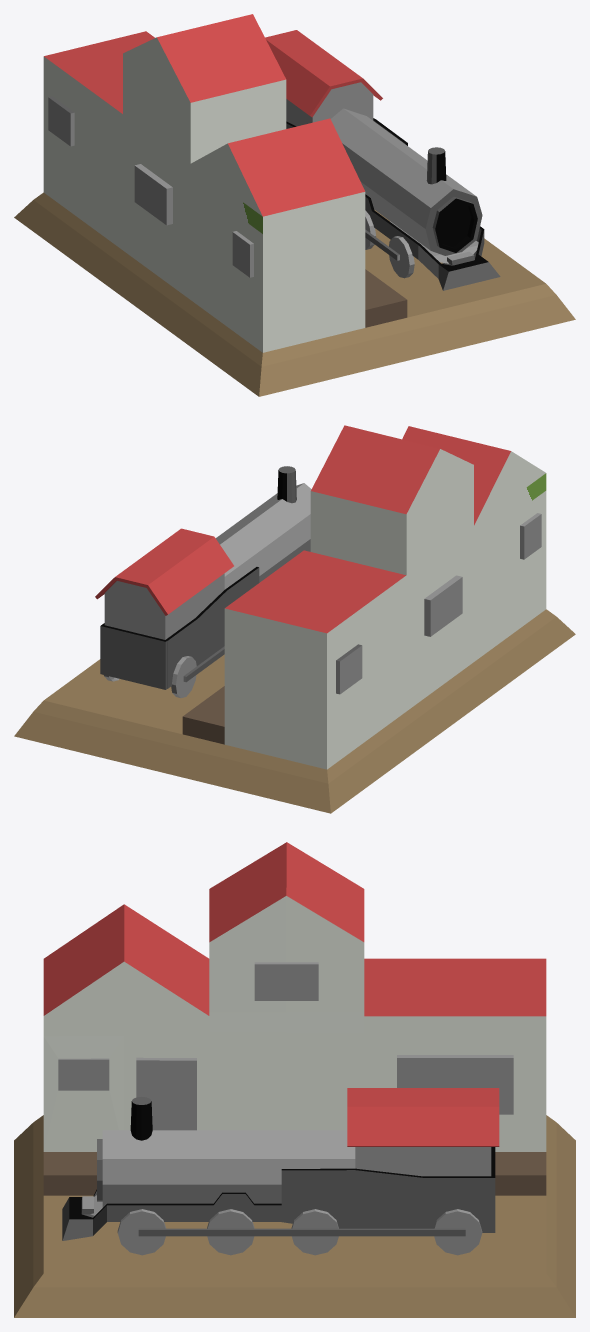
Rendered from train_station_model.fbx.
3 views of the same model, one above another, from view 1: azimuth 30°, elevation 25°; view 2: azimuth 150°, elevation 25°; view 3: azimuth 270°, elevation 25° (orthographic). The views are drawn at different scales.
Visible parts, largest first — view 1: trainstation1; view 2: trainstation1; view 3: trainstation1.
Part boxes in pixels (left/top/right/bottom): trainstation1: left=14, top=14, right=575, bottom=396; trainstation1: left=14, top=425, right=575, bottom=813; trainstation1: left=14, top=842, right=575, bottom=1317.
Size of the model in its own units: 10.31 by 8.35 by 13.81.
